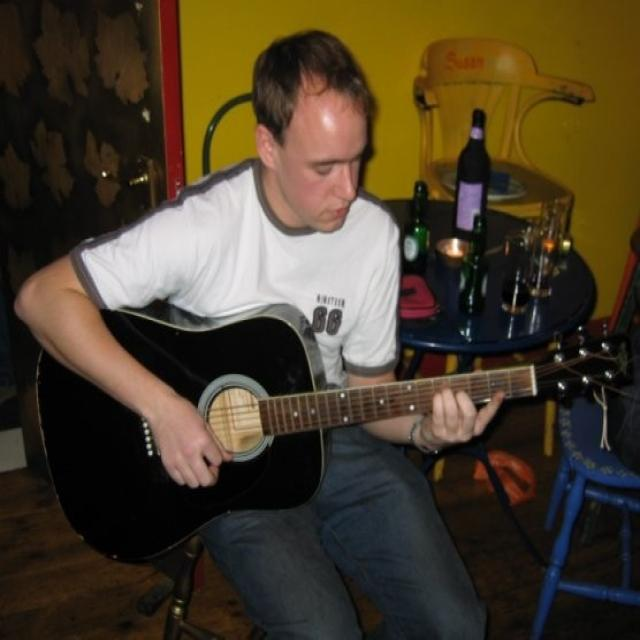guitar: (34, 295, 628, 562)
